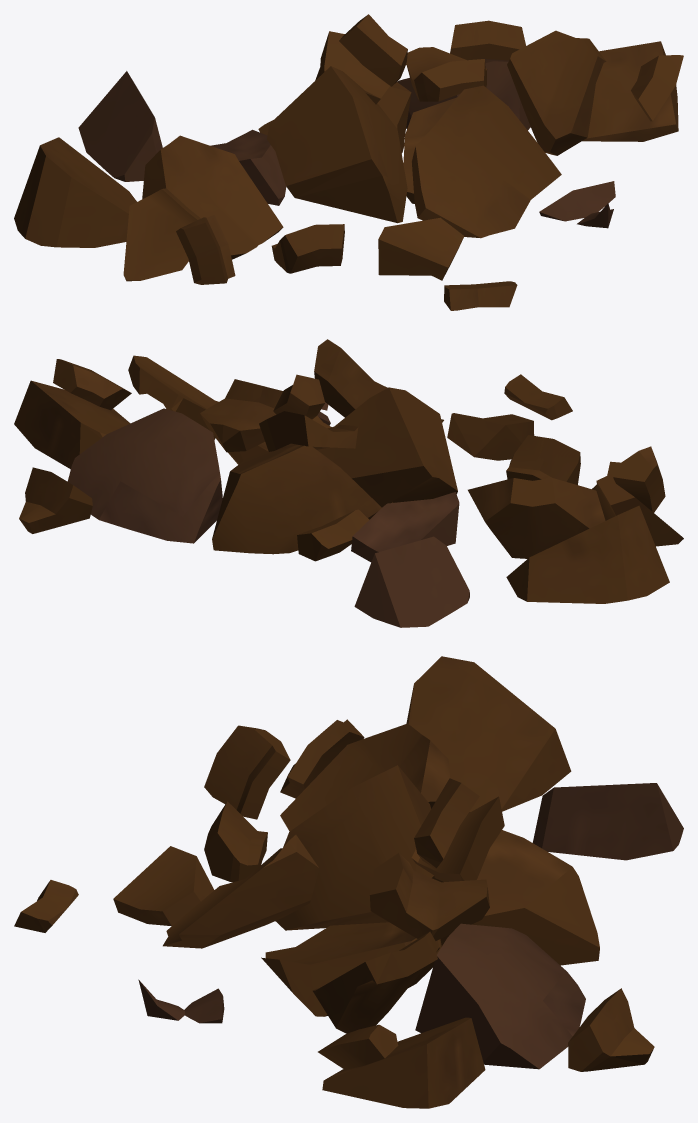
Rendered from prop_vase_rubble_medium.glb.
The picture shows the model from 3 angles, top to bottom: view 1: azimuth 30°, elevation 25°; view 2: azimuth 150°, elevation 25°; view 3: azimuth 270°, elevation 25°; orthographic projection. The views are drawn at different scales.
Parts seen in each view (by area): view 1: Vase_Rubble_Medium; view 2: Vase_Rubble_Medium; view 3: Vase_Rubble_Medium.
Part boxes in pixels (<box>): Vase_Rubble_Medium: <box>14,14,683,310</box>; Vase_Rubble_Medium: <box>14,339,683,627</box>; Vase_Rubble_Medium: <box>14,656,683,1108</box>.
Bounding box in the file's own units: 0.7969 × 0.1746 × 0.5984.
1 material, 1 textured.
